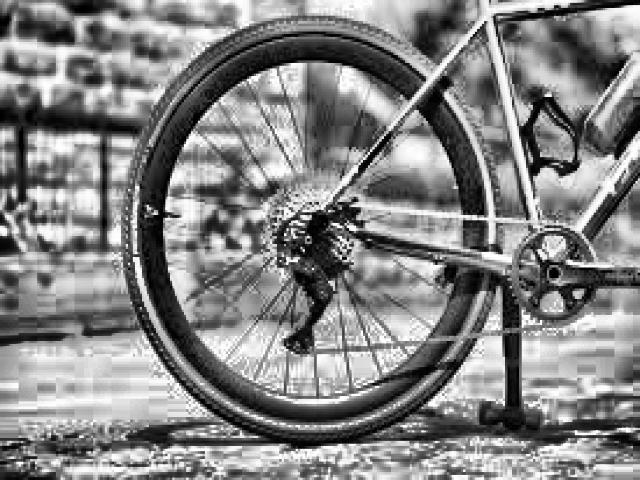cassette: (263, 171, 360, 276)
cranks_set: (505, 222, 640, 327)
rear_derailleur: (276, 236, 335, 358)
wheel: (117, 15, 501, 444)
